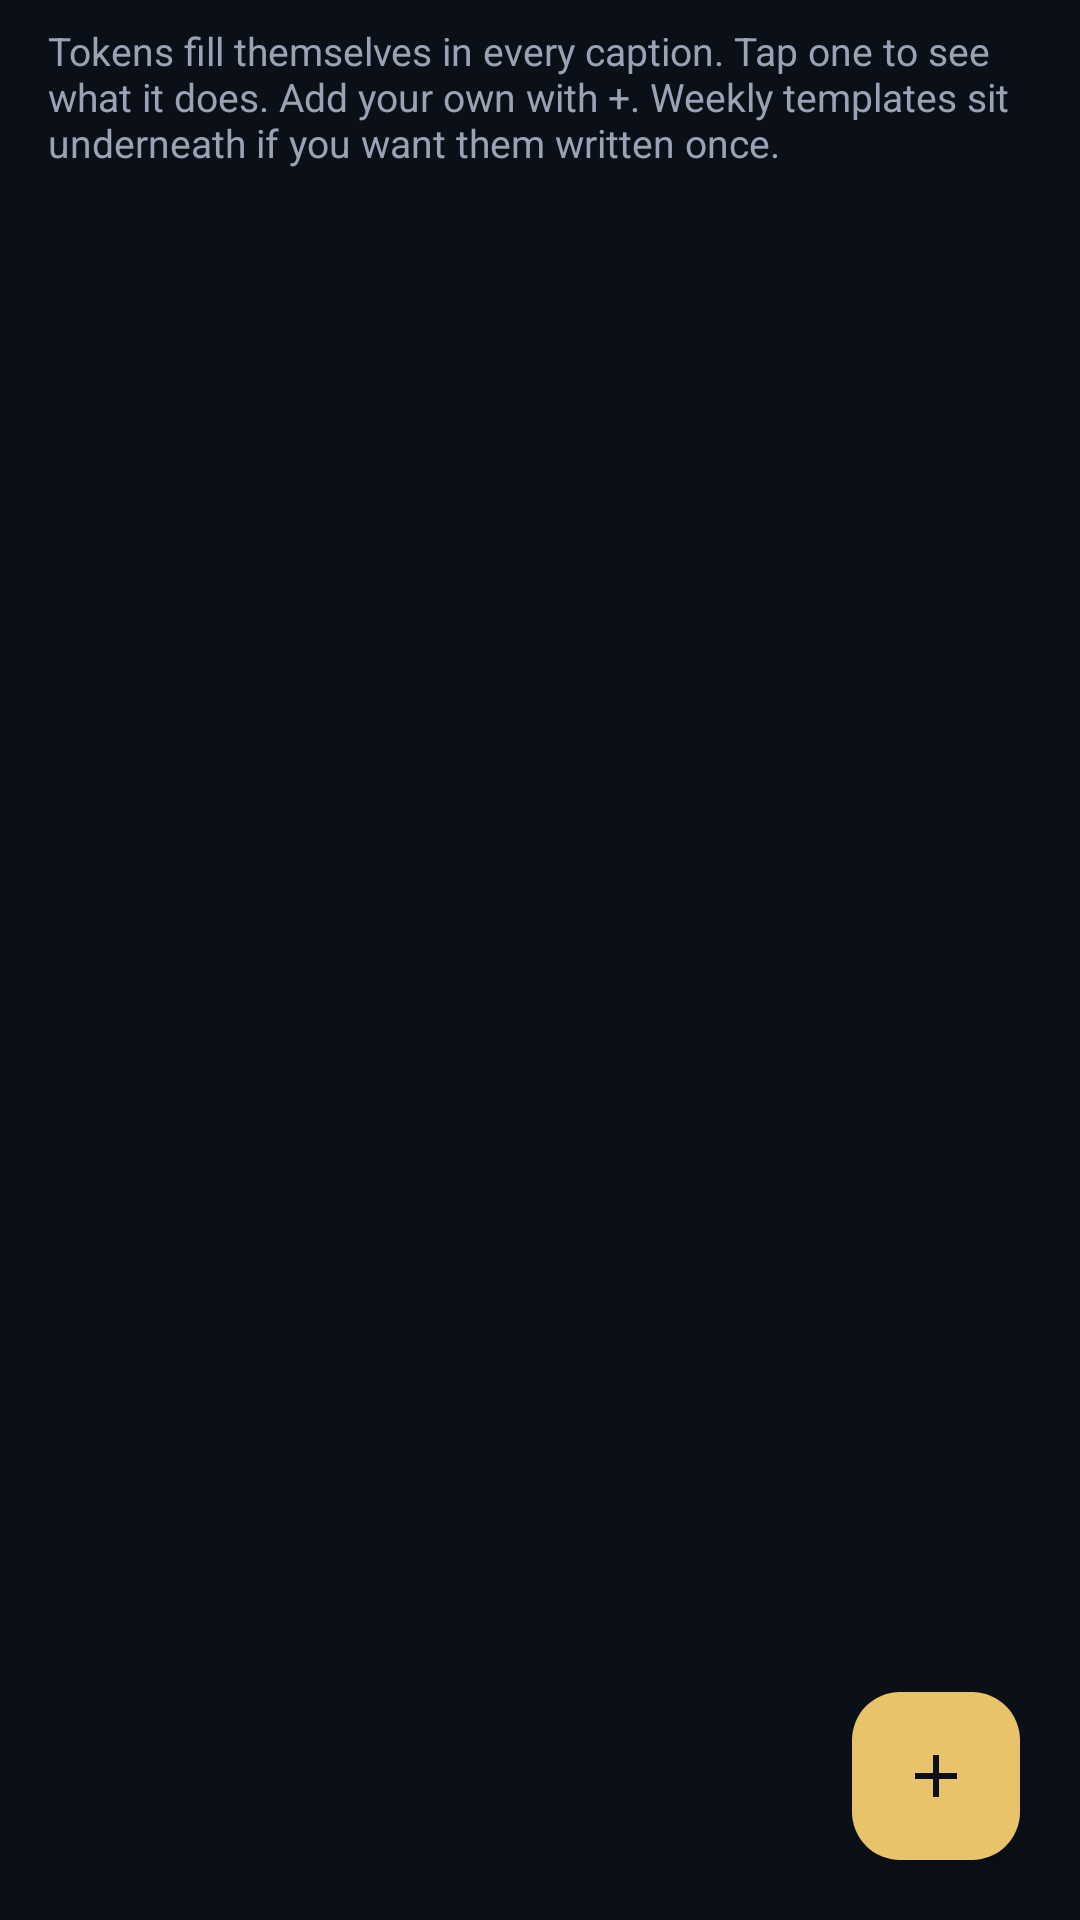

Named icons in this screenshot (1080×1920) and their bounding boxes, rect(x1, y1, x2, y2):
New variable: rect(852, 1692, 1020, 1860)
